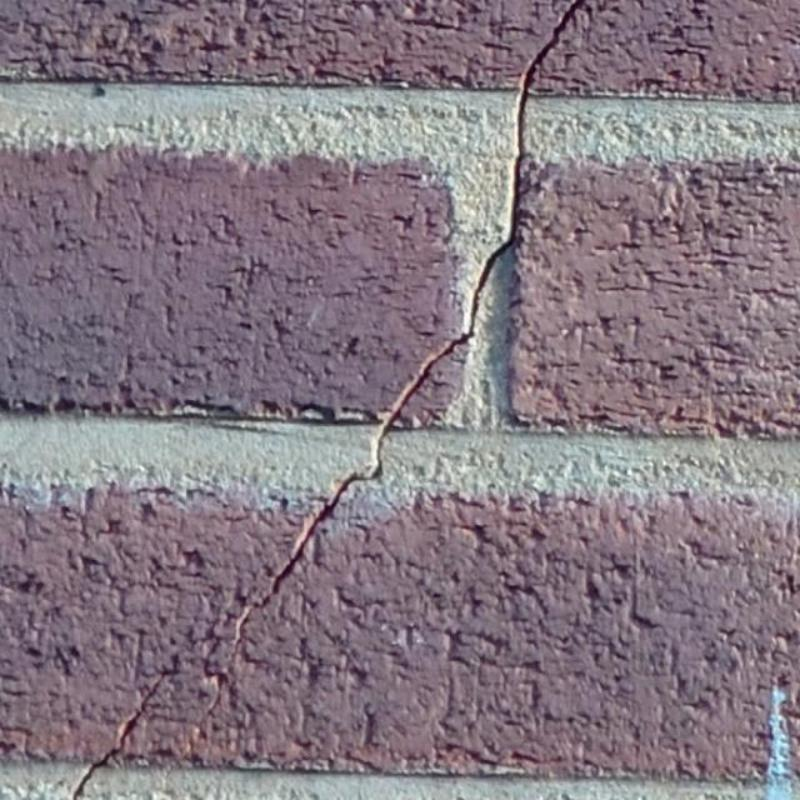crack: (252, 1, 589, 607), (73, 679, 163, 799)
